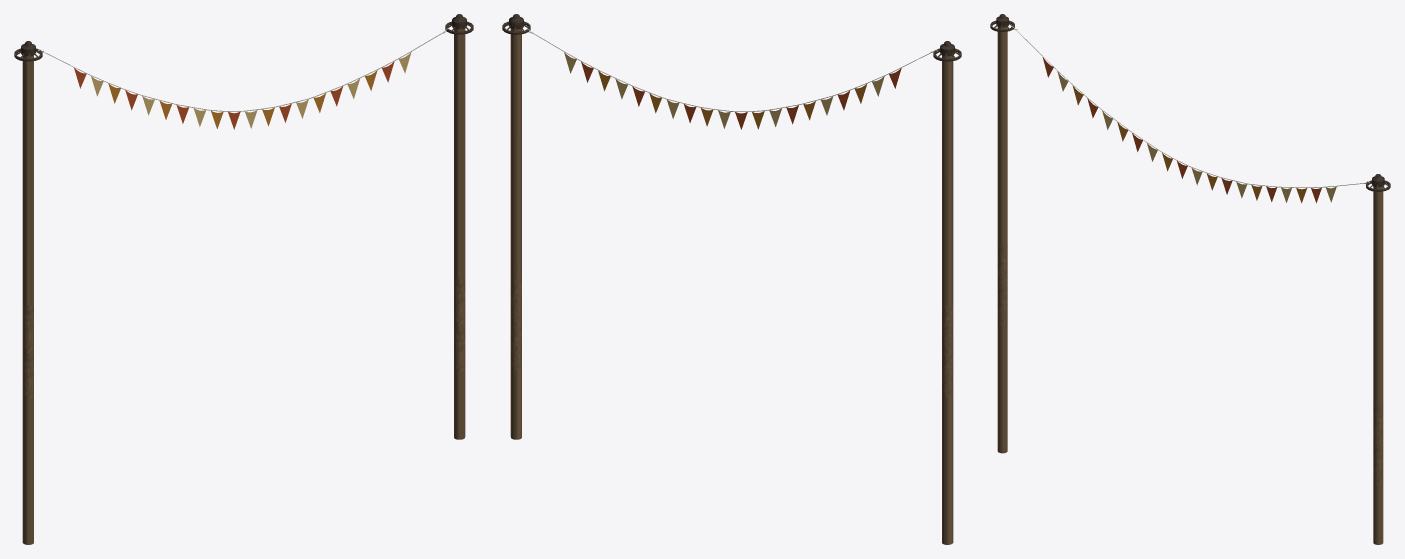
The model's file is objects_a_w09_colorfulflag02.gltf.
3 renders of one model, left to right at view 1: azimuth 30°, elevation 25°; view 2: azimuth 150°, elevation 25°; view 3: azimuth 330°, elevation 25°, orthographic. The views are drawn at different scales.
Visible parts, largest first — view 1: um_objects_a_w09_colorfulflag02_model_lod1Shape:objects_un_t, um_objects_a_w09_colorfulflag02_model_lod0Shape:objects_un_t, nomerge_objects_a_w09_colorfulflag02_mesh_01_shape:objects_u; view 2: um_objects_a_w09_colorfulflag02_model_lod0Shape:objects_un_t, nomerge_objects_a_w09_colorfulflag02_mesh_01_shape:objects_u; view 3: um_objects_a_w09_colorfulflag02_model_lod1Shape:objects_un_t, um_objects_a_w09_colorfulflag02_model_lod0Shape:objects_un_t, nomerge_objects_a_w09_colorfulflag02_mesh_01_shape:objects_u.
Boxes of the visible parts, bbox=[...] form: um_objects_a_w09_colorfulflag02_model_lod1Shape:objects_un_t: bbox=[14, 17, 473, 544]; um_objects_a_w09_colorfulflag02_model_lod0Shape:objects_un_t: bbox=[14, 14, 473, 544]; nomerge_objects_a_w09_colorfulflag02_mesh_01_shape:objects_u: bbox=[44, 32, 443, 129]; um_objects_a_w09_colorfulflag02_model_lod0Shape:objects_un_t: bbox=[502, 14, 961, 544]; nomerge_objects_a_w09_colorfulflag02_mesh_01_shape:objects_u: bbox=[532, 32, 931, 129]; um_objects_a_w09_colorfulflag02_model_lod1Shape:objects_un_t: bbox=[990, 17, 1390, 543]; um_objects_a_w09_colorfulflag02_model_lod0Shape:objects_un_t: bbox=[990, 14, 1390, 544]; nomerge_objects_a_w09_colorfulflag02_mesh_01_shape:objects_u: bbox=[1016, 30, 1364, 203].
Size of what is drawn, in the model's own units: 14.85 by 15.6 by 0.8121.
2 materials, 2 textured.
